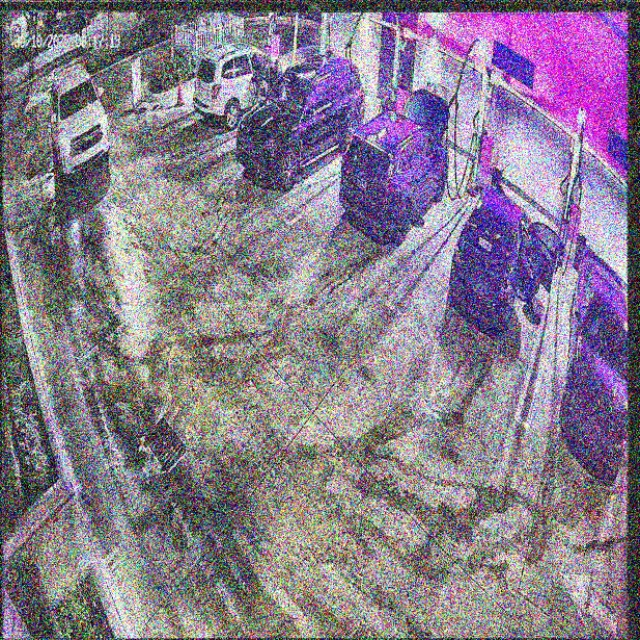Car: (340, 86, 451, 242), (450, 180, 561, 333), (238, 60, 361, 187)
